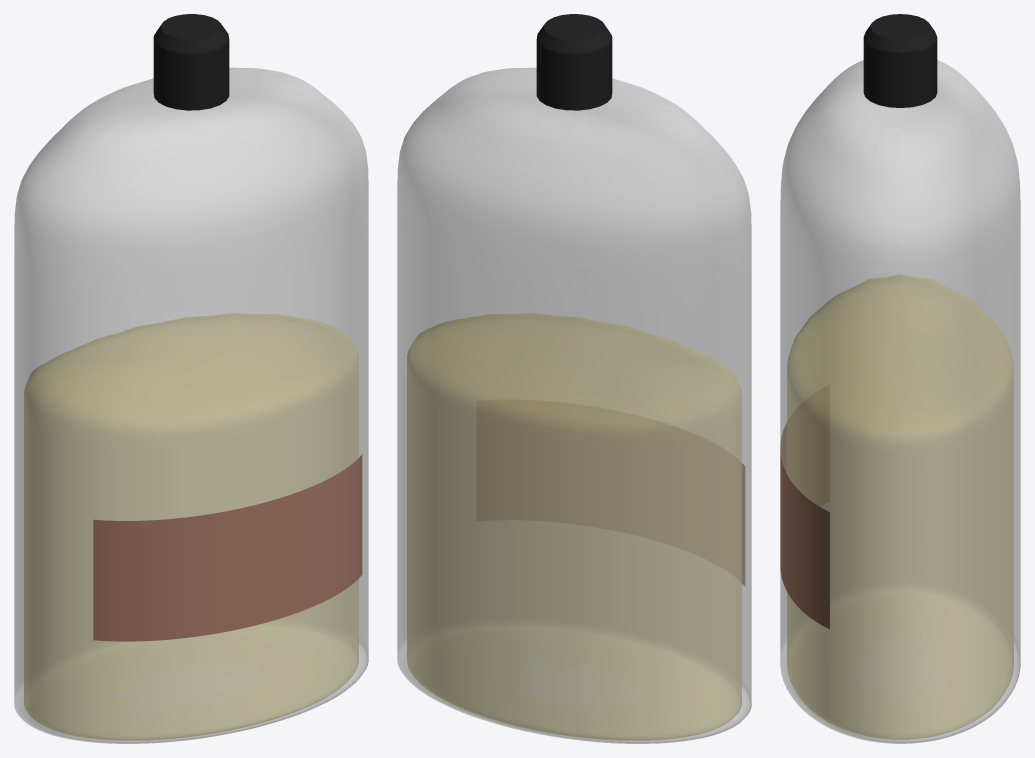
File: fbx_WhiskeyBottle.fbx
3 views of the same model, side by side, from view 1: azimuth 30°, elevation 25°; view 2: azimuth 150°, elevation 25°; view 3: azimuth 270°, elevation 25° (orthographic). The views are drawn at different scales.
Parts seen in each view (by area): view 1: polySurface6, pCylinder17, polySurface7; view 2: polySurface6, pCylinder17, polySurface7; view 3: polySurface6, pCylinder17, polySurface7.
Part boxes in pixels (x1=…): polySurface6: x1=14, y1=67, x2=368, y2=743; pCylinder17: x1=24, y1=313, x2=358, y2=740; polySurface7: x1=153, y1=14, x2=229, y2=110; polySurface6: x1=397, y1=67, x2=751, y2=743; pCylinder17: x1=407, y1=313, x2=741, y2=740; polySurface7: x1=536, y1=14, x2=612, y2=110; polySurface6: x1=780, y1=60, x2=1020, y2=743; pCylinder17: x1=787, y1=274, x2=1013, y2=739; polySurface7: x1=863, y1=14, x2=937, y2=107.
Bounding box in the file's own units: 10.18 × 19.31 × 6.55.
